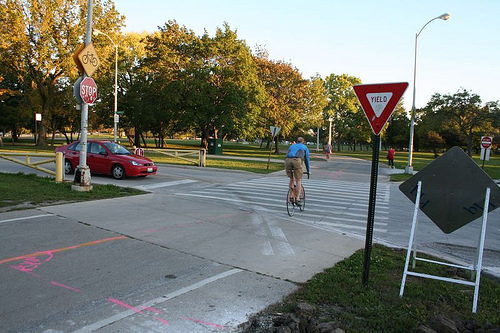yield_sign: (353, 82, 409, 136)
